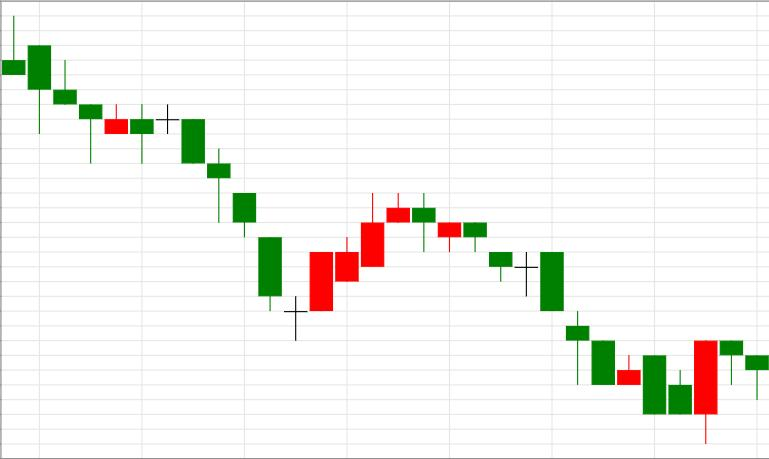bullish_engulfing_rise: (514, 251, 718, 444)
morning_star_rise: (156, 104, 333, 341)
